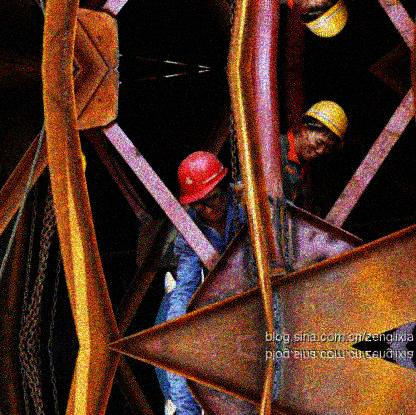helmet: (174, 149, 230, 219), (299, 96, 349, 161)
